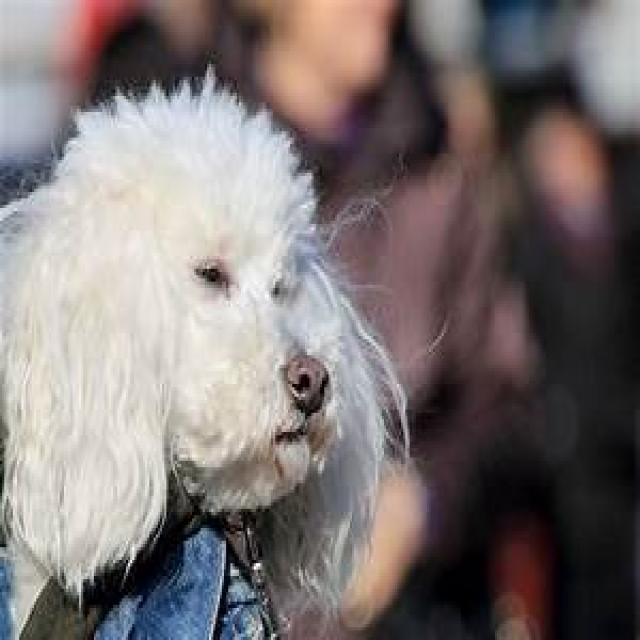animal: (0, 87, 387, 640)
